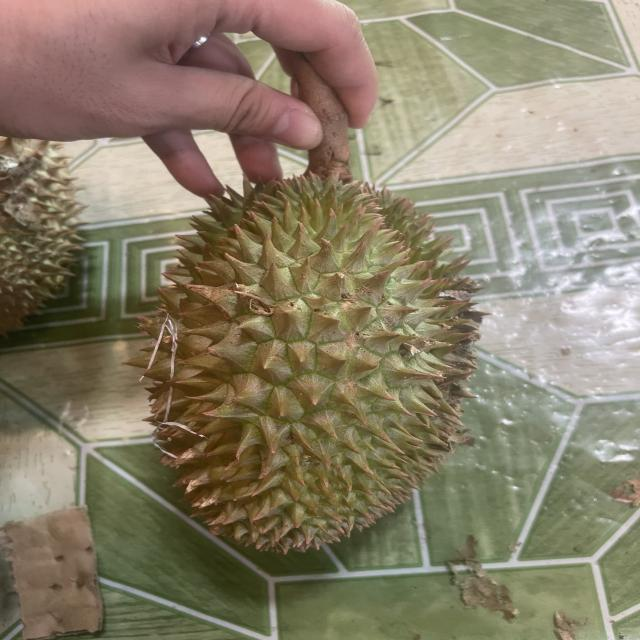mature: (135, 162, 478, 577)
